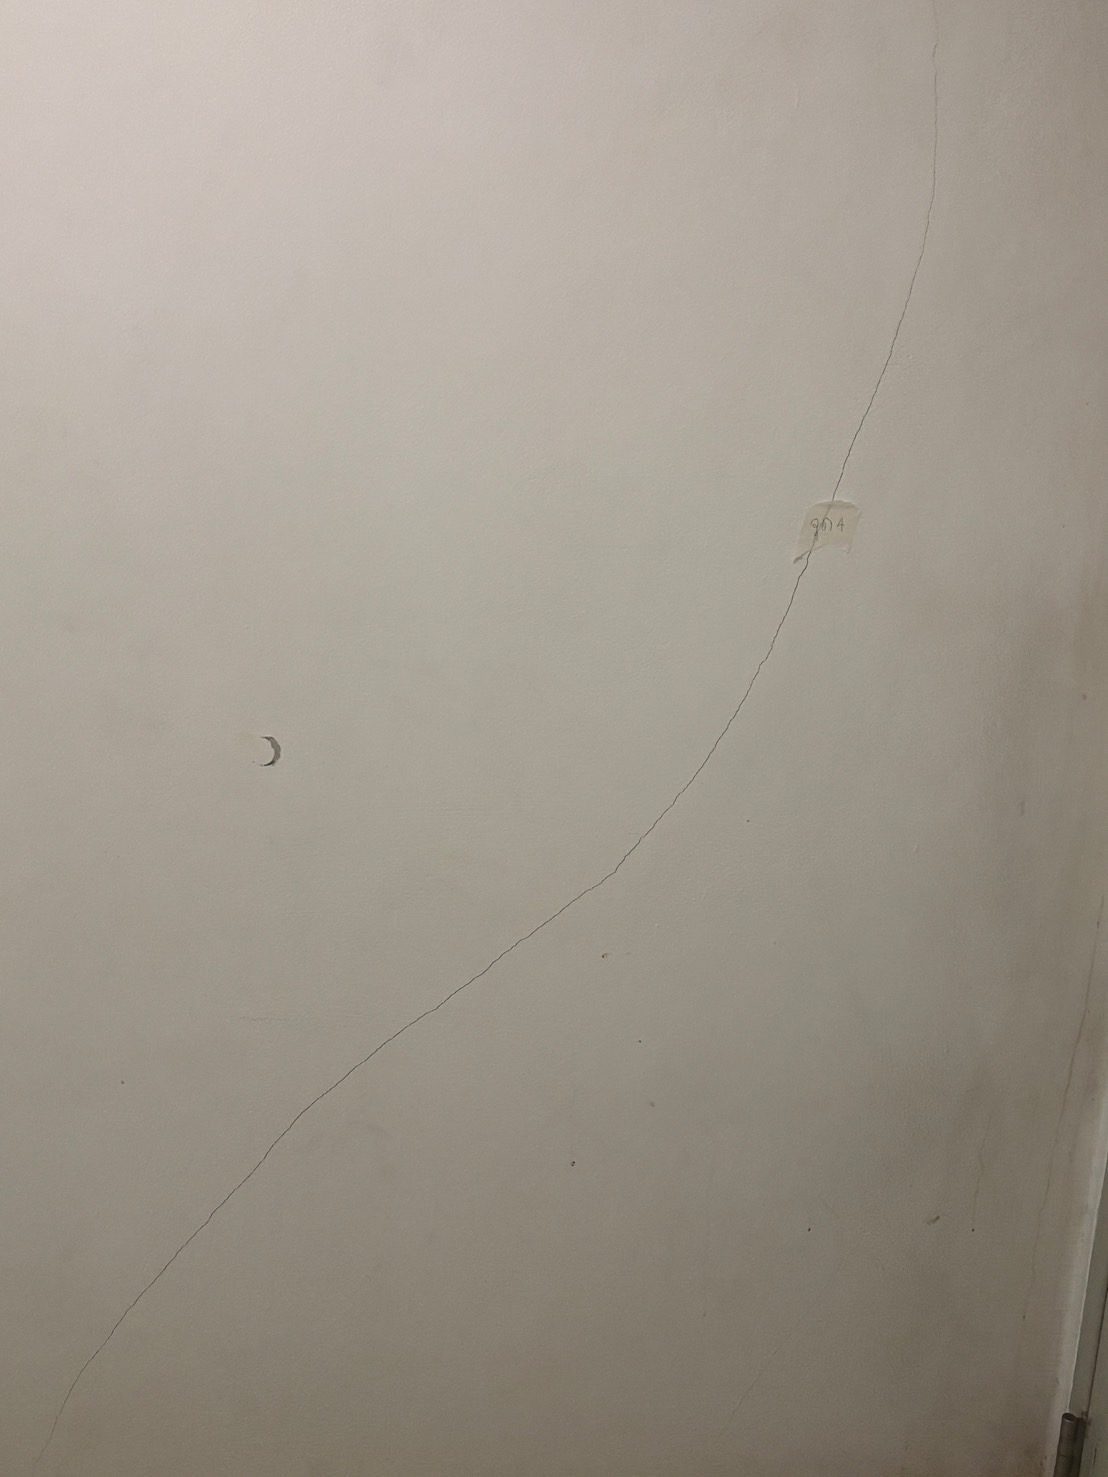Low: (17, 1, 997, 1474)
